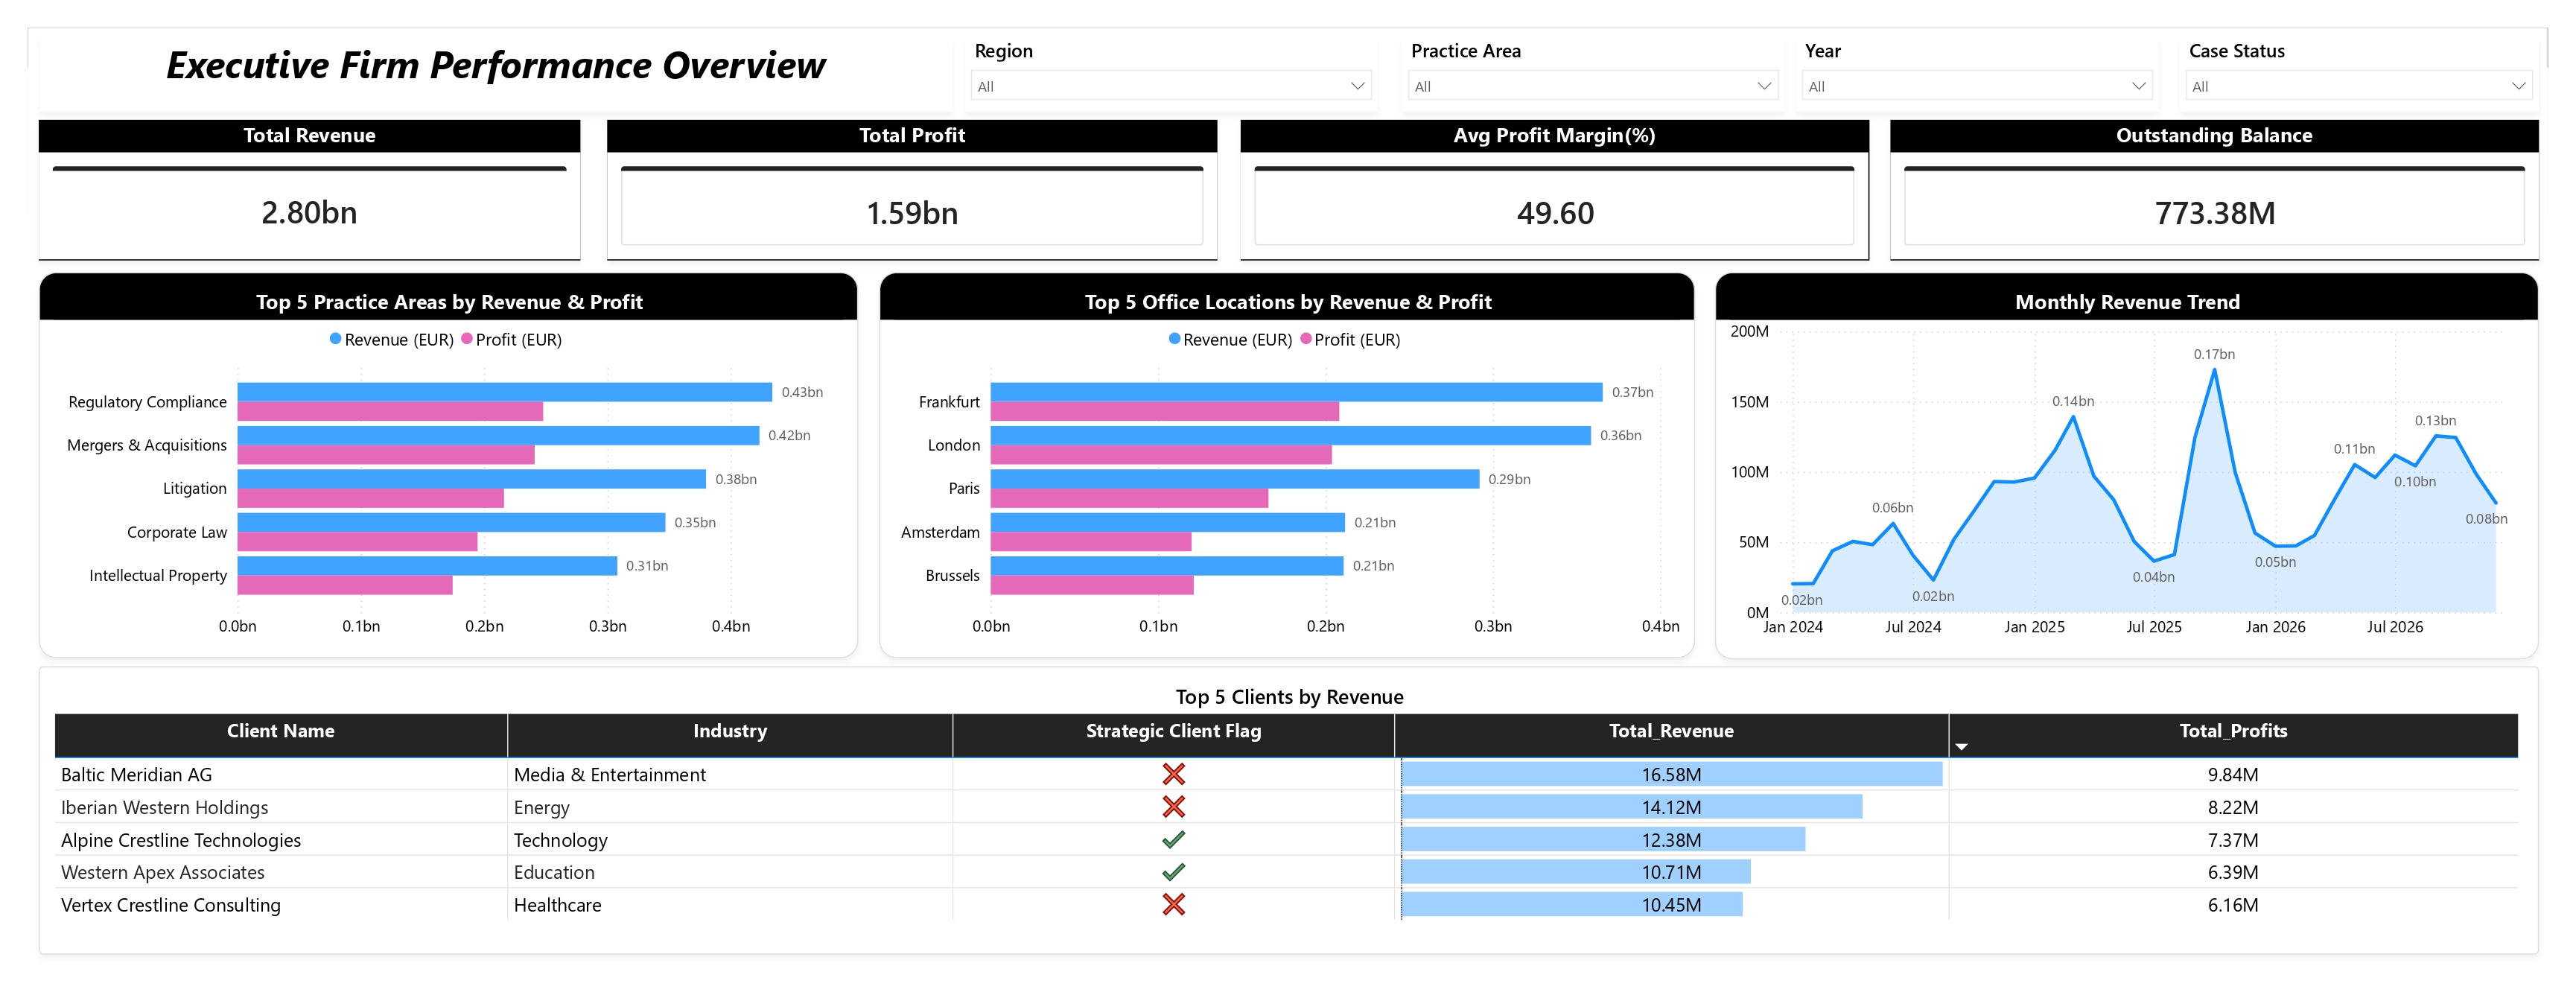

The dashboard page shown, as its layout file describes it:
{"tool":"powerbi","page":{"name":"Dashboard_1","canvas":[2165,810],"ordinal":0},"visuals":[{"type":"clusteredBarChart","title":"Top 5 Practice Areas by Revenue & Profit","fields":{"Category":["Dim_Case.Practice Area"],"Y":["Sum(Fact_Cases.Revenue (EUR))","Sum(Fact_Cases.Profit (EUR))"]},"box":[7.7,209.5,705.2,332.2],"z":0},{"type":"clusteredBarChart","title":"Top 5 Office Locations by Revenue & Profit","fields":{"Category":["Dim_Office.Office City"],"Y":["Sum(Fact_Cases.Revenue (EUR))","Sum(Fact_Cases.Profit (EUR))"]},"box":[730.8,209.5,702.7,332.2],"z":1000},{"type":"cardVisual","title":"Total Revenue","fields":{"Data":["Key_Metrics.Total_Revenue"]},"box":[7.7,79.4,466.1,120.4],"z":2000},{"type":"cardVisual","title":"Total Profit","fields":{"Data":["Key_Metrics.Total_Profits"]},"box":[496.9,79.4,525,120.4],"z":3000},{"type":"cardVisual","title":"Avg Profit Margin(%)","fields":{"Data":["Key_Metrics.Avg_Profit_Margin"]},"box":[1042.4,79.4,540.4,120.4],"z":4000},{"type":"cardVisual","title":"Outstanding Balance","fields":{"Data":["Key_Metrics.Total_Outstanding_balance"]},"box":[1600.7,79.4,558.3,120.4],"z":5000},{"type":"areaChart","title":"Monthly Revenue Trend","fields":{"Y":["Key_Metrics.Total_Revenue"],"Category":["Dim_Date.Date.Variation.Date Hierarchy.Year","Dim_Date.Date.Variation.Date Hierarchy.Month"]},"box":[1449.6,210,709.4,332.9],"z":6000},{"type":"tableEx","title":"Top 5 Clients by Revenue","fields":{"Values":["Dim_Client.Client Name","Dim_Client.Industry","Dim_Client.Strategic Client Flag","Key_Metrics.Total_Revenue","Key_Metrics.Total_Profits"]},"box":[7.7,549.4,2151.5,247.9],"z":7000},{"type":"slicer","fields":{"Values":["Dim_Office.Region"]},"box":[804.9,7.7,355.2,63.9],"z":8000},{"type":"slicer","fields":{"Values":["Dim_Case.Practice Area"]},"box":[1180.5,7.7,329.6,63.9],"z":9000},{"type":"slicer","fields":{"Values":["Dim_Date.Date.Variation.Date Hierarchy.Year"]},"box":[1520.4,7.7,311.7,63.9],"z":10000},{"type":"slicer","fields":{"Values":["Dim_Case.Case Status"]},"box":[1850,7.7,309.2,63.9],"z":11000},{"type":"textbox","box":[8.6,8.1,785.7,64.3],"z":12000}]}

Visuals, with their boxes on the page's 2165x810 design canvas (x1, y1, x2, y2). These are canvas units, not pixel positions in the 2576x998 screenshot, which may show the page scaled, cropped or inside an application window:
"Top 5 Practice Areas by Revenue & Profit" clusteredBarChart: crop(8, 210, 713, 542)
"Top 5 Office Locations by Revenue & Profit" clusteredBarChart: crop(731, 210, 1434, 542)
"Total Revenue" cardVisual: crop(8, 79, 474, 200)
"Total Profit" cardVisual: crop(497, 79, 1022, 200)
"Avg Profit Margin(%)" cardVisual: crop(1042, 79, 1583, 200)
"Outstanding Balance" cardVisual: crop(1601, 79, 2159, 200)
"Monthly Revenue Trend" areaChart: crop(1450, 210, 2159, 543)
"Top 5 Clients by Revenue" tableEx: crop(8, 549, 2159, 797)
slicer - Dim_Office.Region: crop(805, 8, 1160, 72)
slicer - Dim_Case.Practice Area: crop(1180, 8, 1510, 72)
slicer - Dim_Date.Date.Variation.Date Hierarchy.Year: crop(1520, 8, 1832, 72)
slicer - Dim_Case.Case Status: crop(1850, 8, 2159, 72)
textbox: crop(9, 8, 794, 72)
